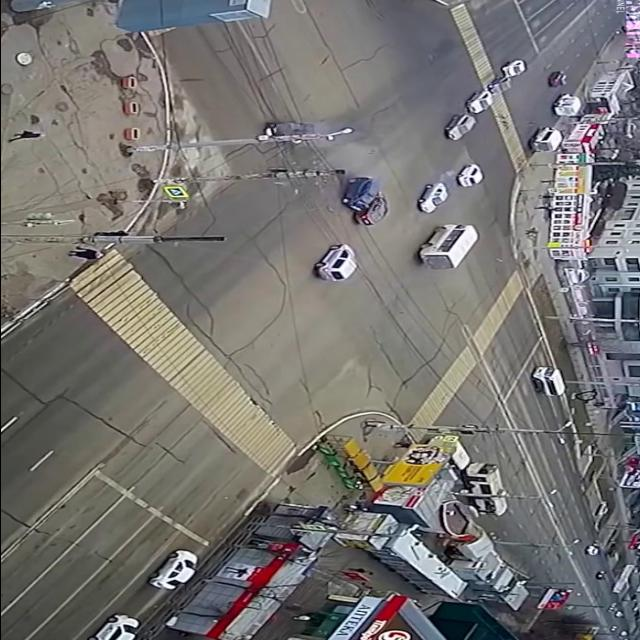accident: (250, 117, 400, 231)
non_accident: (436, 58, 533, 144)
